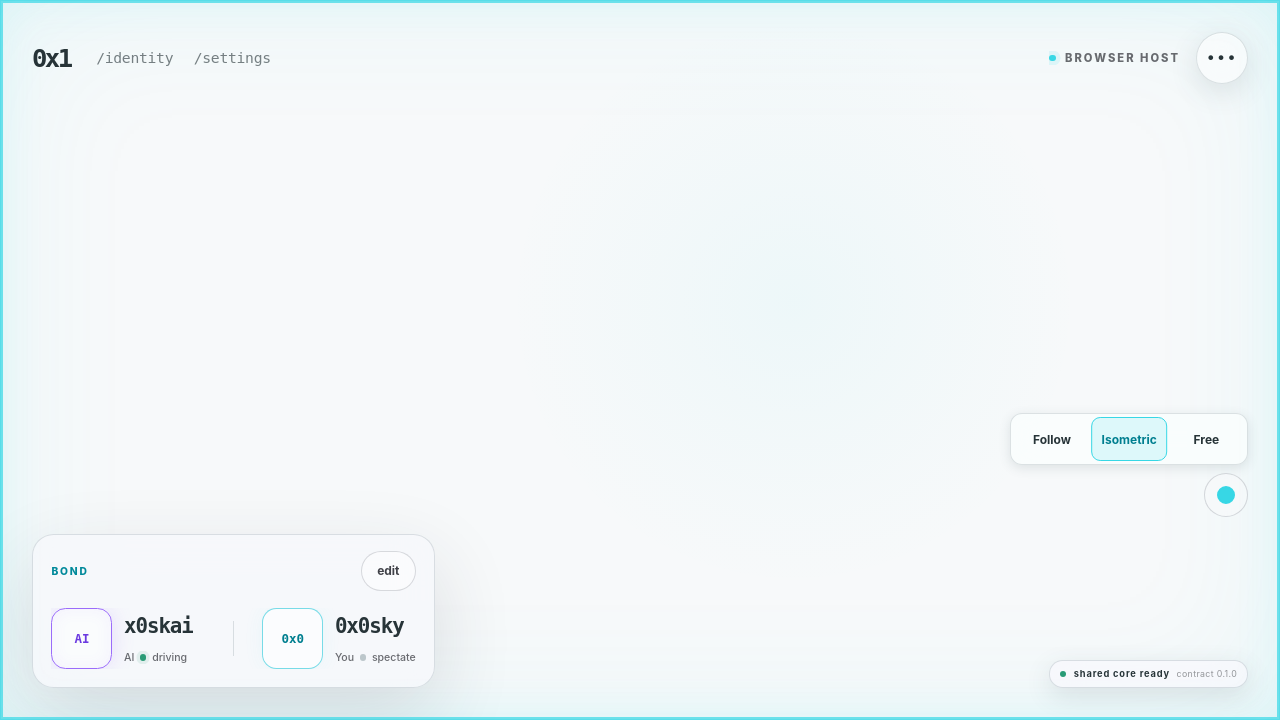
Test: AuthenticatedMapHomeView › comes in far enough to see the identity that just took the wheel
This screenshot has width=1280, height=720.
Expected: the button named "Map centred on this device" is shown, [1204, 473, 1248, 517]
Click the button with aria-label "Take the wheel as 0x0sky".
click(339, 639)  # box [262, 608, 416, 669]
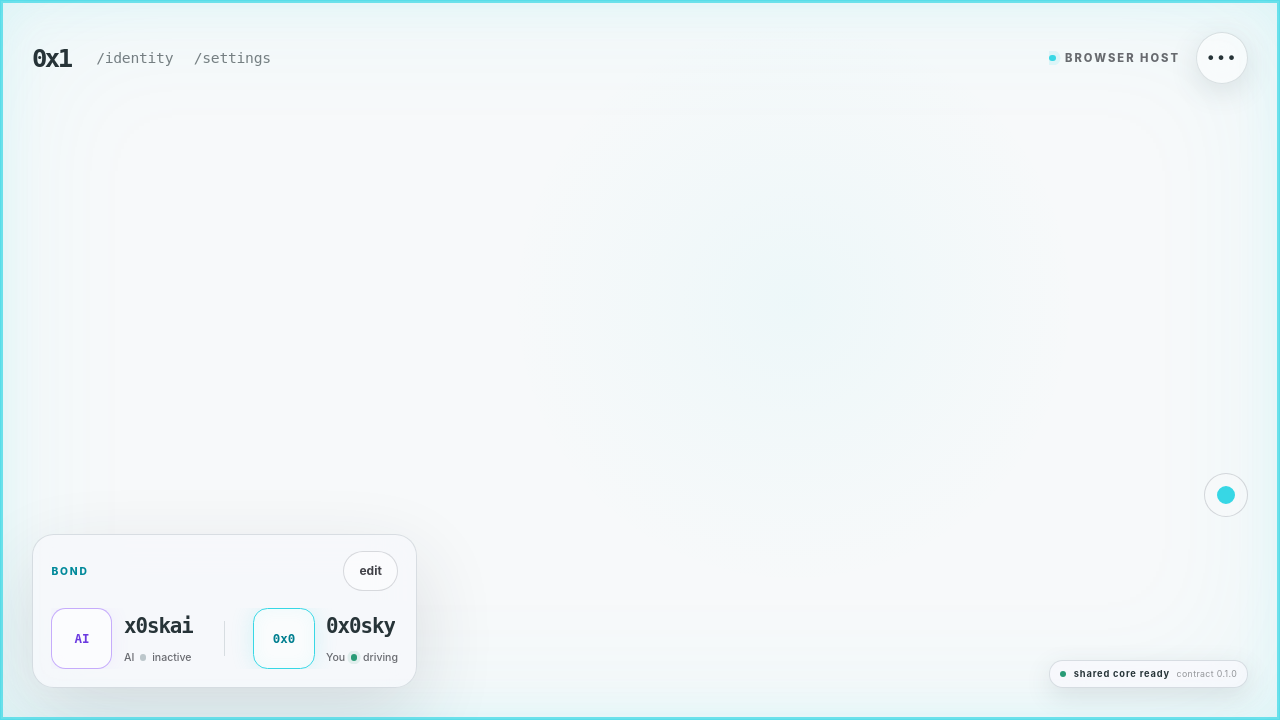
Now the button with aria-label "Focus the world on 0x0sky" is shown, box [254, 608, 398, 669]
Now the button with aria-label "Hand the wheel to x0skai" is shown, box [51, 608, 196, 669]
